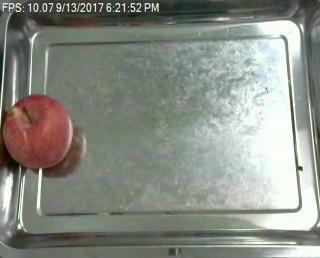apple: (3, 96, 73, 169)
